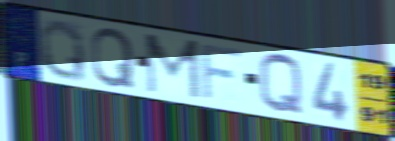4: (311, 61, 352, 124)
F: (199, 41, 245, 103)
M: (143, 31, 203, 102)
Q: (38, 17, 89, 84), (256, 51, 306, 118), (89, 27, 137, 90)
